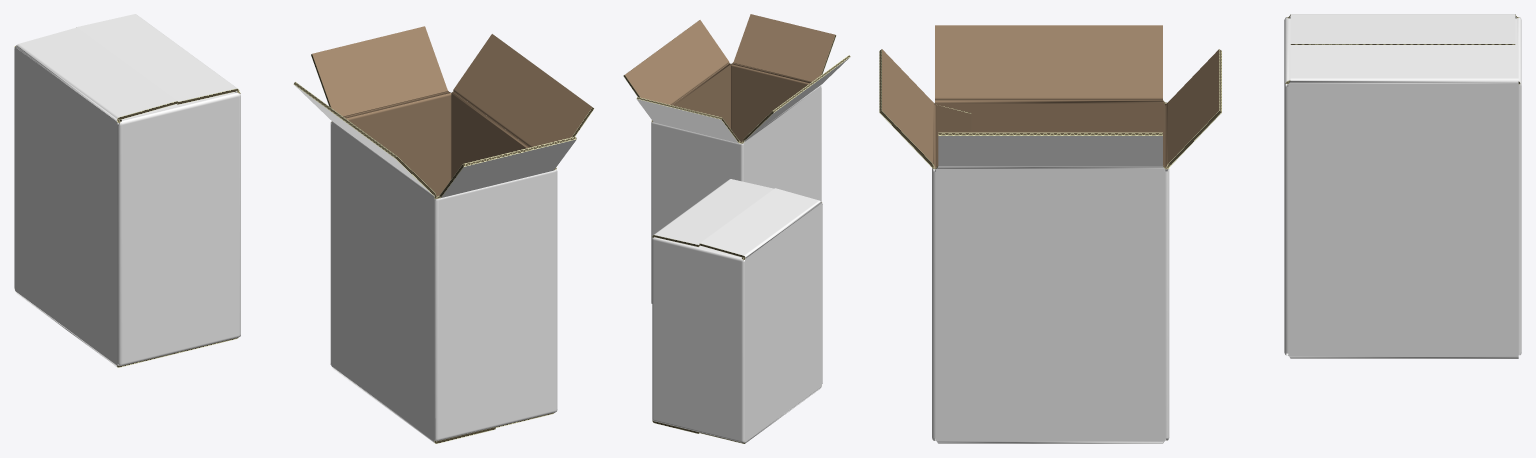
Rendered from TroquelCajaB1.gltf.
3 views of the same model, side by side, from view 1: azimuth 30°, elevation 25°; view 2: azimuth 150°, elevation 25°; view 3: azimuth 270°, elevation 25° (orthographic). The views are drawn at different scales.
Visible parts, largest first — view 1: TQ_ARD-node; view 2: TQ_ARD-node; view 3: TQ_ARD-node.
Boxes of the visible parts, bbox=[...] form: TQ_ARD-node: bbox=[14, 14, 594, 443]; TQ_ARD-node: bbox=[623, 14, 850, 443]; TQ_ARD-node: bbox=[879, 14, 1521, 443].
Size of what is drawn, in the model's own units: 0.3634 by 0.3235 by 0.5634.
6 materials, 2 textured.
